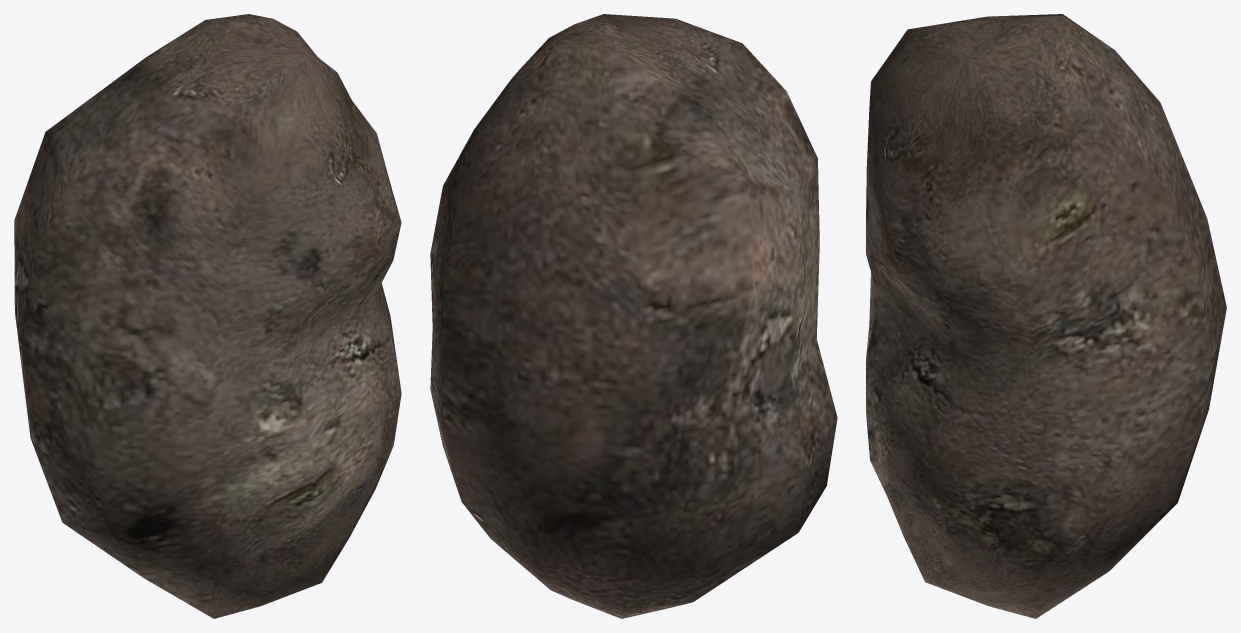
File: weapon_potato.glb
3 renders of one model, left to right at view 1: azimuth 30°, elevation 25°; view 2: azimuth 150°, elevation 25°; view 3: azimuth 270°, elevation 25°, orthographic. The views are drawn at different scales.
Size of the model in its own units: 4.34 by 6.71 by 3.73.
Materials: 1 (1 with a texture image).
